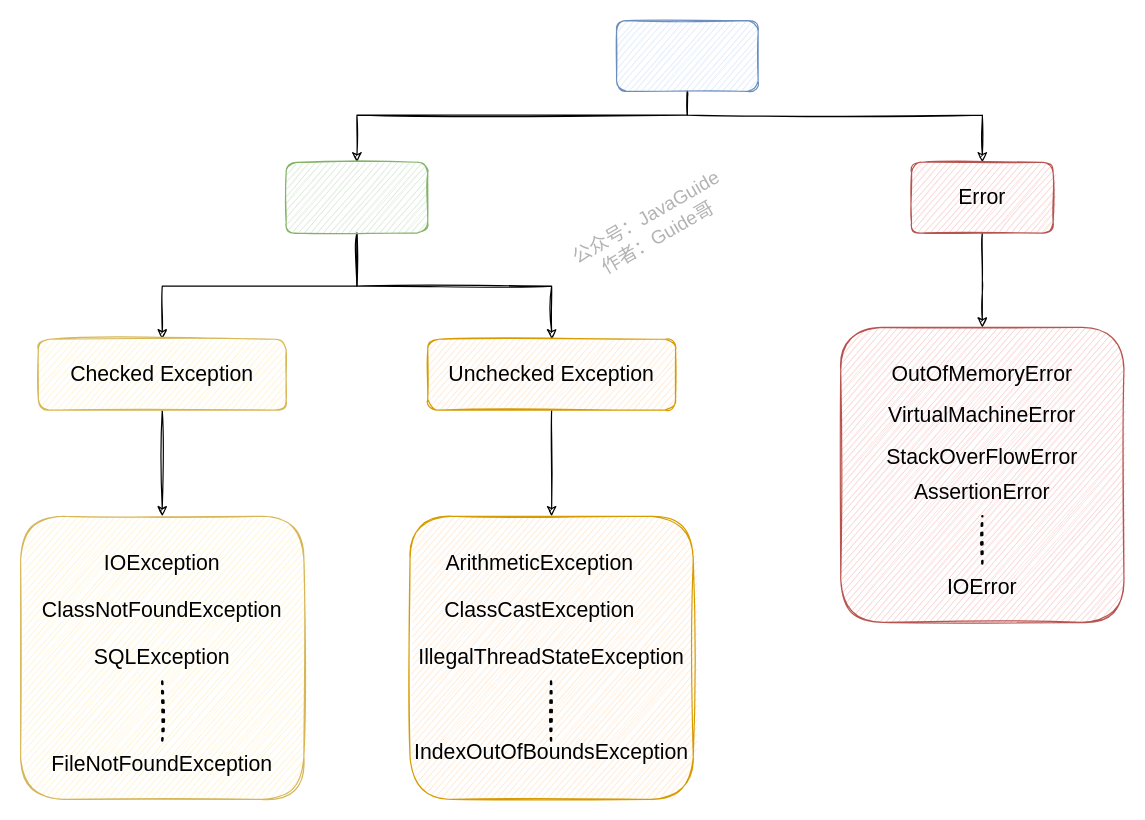
Some shapes in this 1145 by 820 pixel diagram are drawn without their labels. Here are the shapes that lost their labels. From the top down, the centre of each, then its label:
the point at 686,55: Throwable
the point at 356,197: Exception
